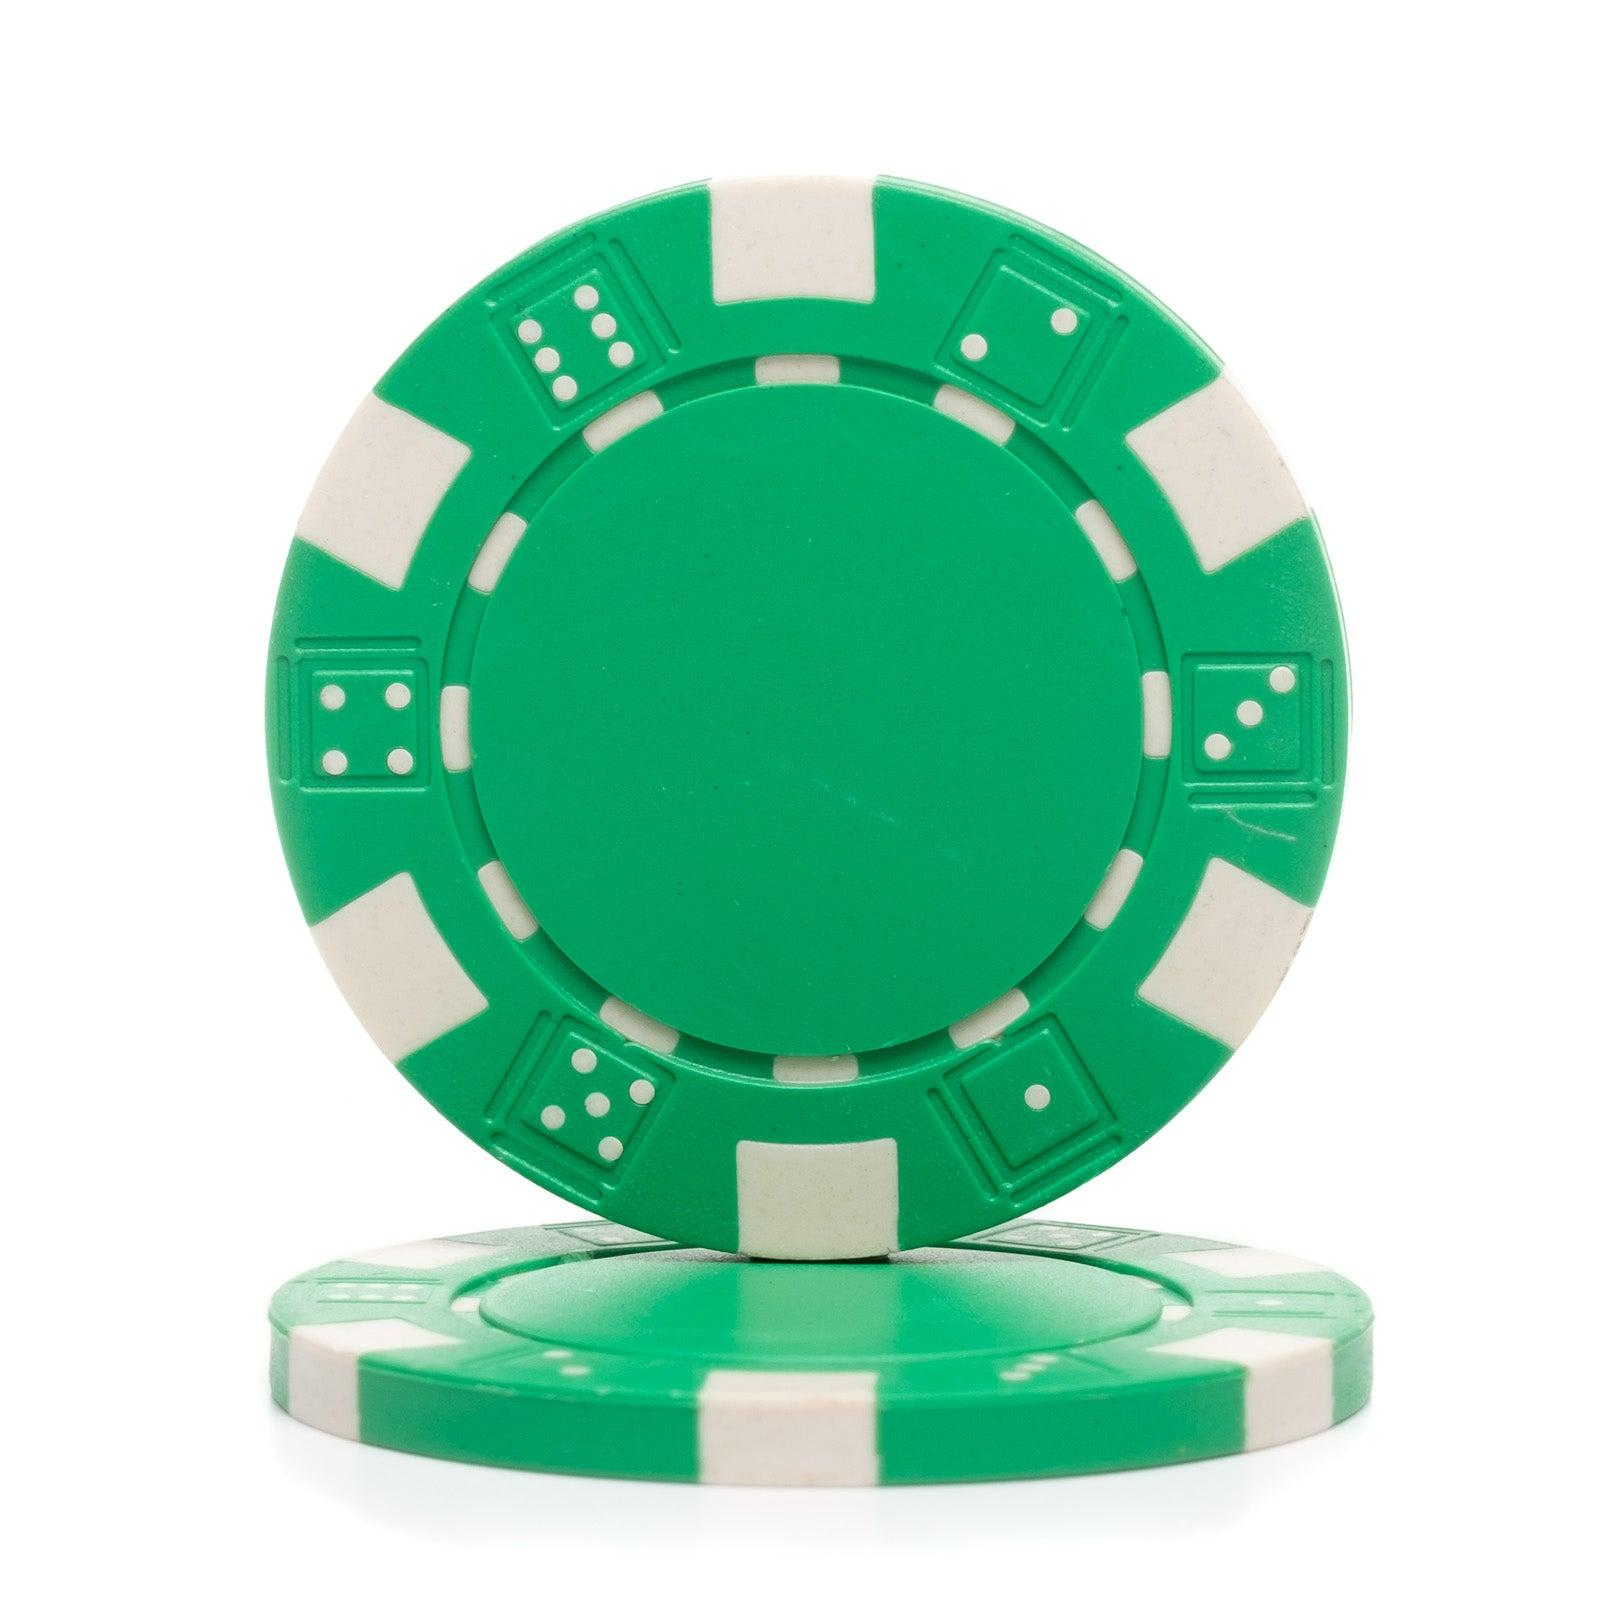chip-green: (265, 179, 1347, 1262), (273, 1225, 1371, 1484)
